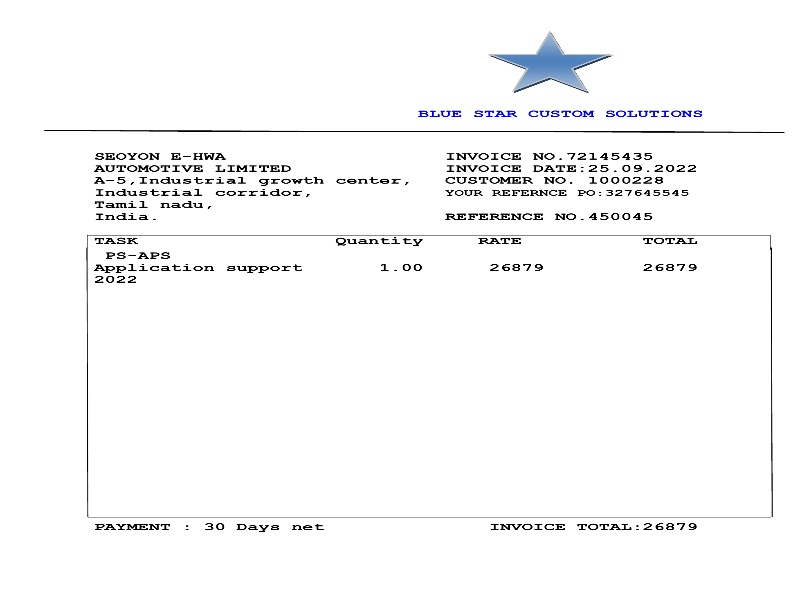Bordered: (86, 234, 773, 518)
